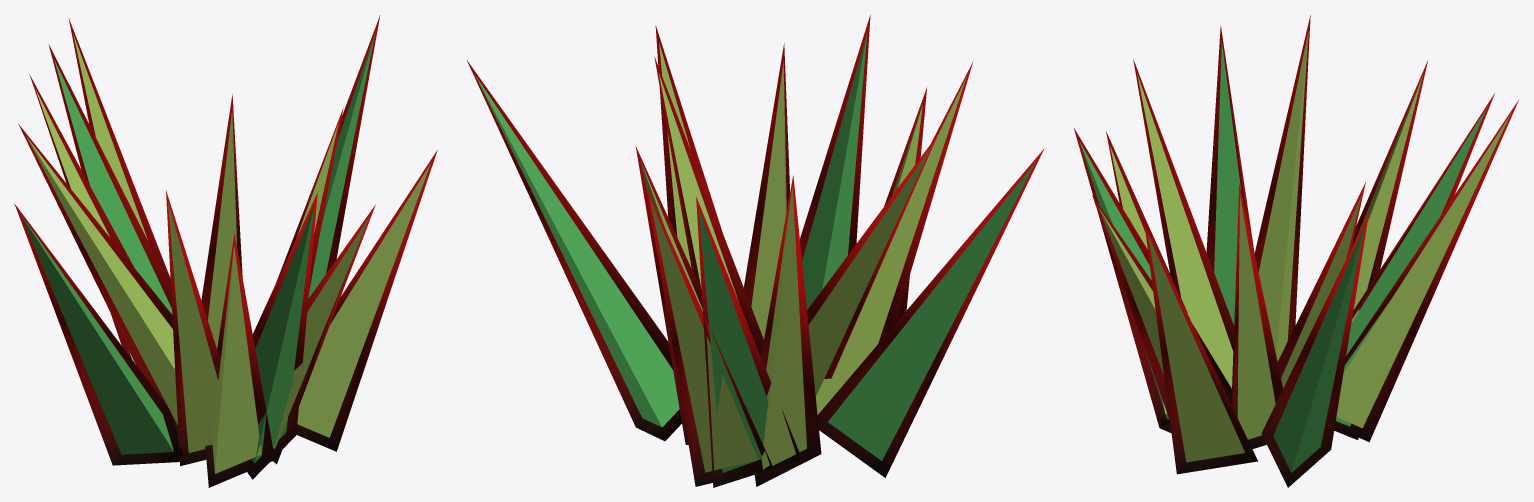
The model's file is SM_Island_GrassTuft_A.fbx.
3 views of the same model, side by side, from view 1: azimuth 30°, elevation 25°; view 2: azimuth 150°, elevation 25°; view 3: azimuth 270°, elevation 25° (orthographic). The views are drawn at different scales.
Parts seen in each view (by area): view 1: SM_Island_GrassTuft_A, SM_Island_GrassTuft_A_Outline; view 2: SM_Island_GrassTuft_A, SM_Island_GrassTuft_A_Outline; view 3: SM_Island_GrassTuft_A, SM_Island_GrassTuft_A_Outline.
Boxes of the visible parts, box(x1,y1,x2,y2) form: SM_Island_GrassTuft_A: box(20, 31, 430, 473); SM_Island_GrassTuft_A_Outline: box(14, 15, 437, 487); SM_Island_GrassTuft_A: box(475, 32, 1036, 472); SM_Island_GrassTuft_A_Outline: box(467, 14, 1044, 487); SM_Island_GrassTuft_A: box(1079, 31, 1511, 472); SM_Island_GrassTuft_A_Outline: box(1074, 15, 1518, 487).
Size of the model in its own units: 0.4661 by 0.3459 by 0.411.
2 materials, 1 textured.
